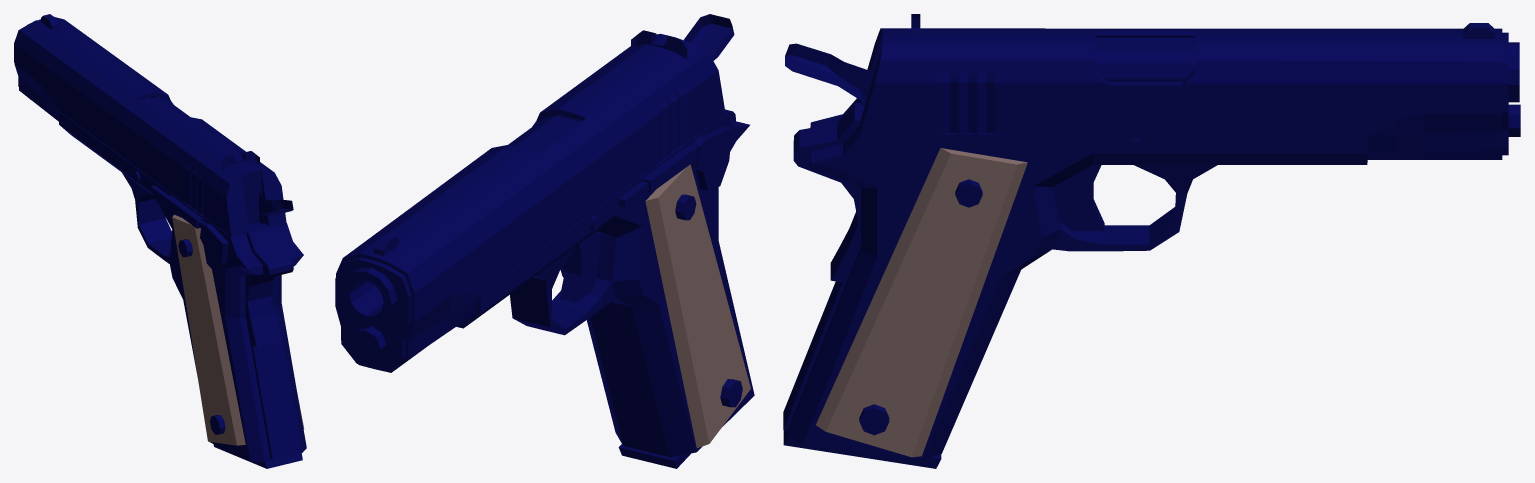
File: m1911_blue.glb
The picture shows the model from 3 angles, left to right: view 1: azimuth 30°, elevation 25°; view 2: azimuth 150°, elevation 25°; view 3: azimuth 270°, elevation 25°; orthographic projection. The views are drawn at different scales.
Parts seen in each view (by area): view 1: Cube.001, Cube, Cube.007, Cube.006, Cube.010, Cube.009, Cube.003, Cube.008, Cylinder.001, Cube.013, Cube.011; view 2: Cube.001, Cube, Cube.007, Cube.005, Cube.002, Cube.004, Cube.010, Cube.009, Cube.008, Cube.003, Cylinder.001, Cylinder (+2 smaller); view 3: Cube.001, Cube, Cube.007, Cube.006, Cube.003, Cube.008, Cube.004, Cylinder.001, Cube.013, Cube.005.
Part boxes in pixels (bbox=[...]): Cube.001: bbox=[14, 17, 286, 237]; Cube: bbox=[59, 111, 306, 461]; Cube.007: bbox=[172, 214, 304, 445]; Cube.006: bbox=[245, 222, 297, 459]; Cube.010: bbox=[200, 223, 228, 272]; Cube.009: bbox=[150, 185, 206, 228]; Cube.003: bbox=[139, 97, 189, 122]; Cube.008: bbox=[258, 192, 293, 224]; Cylinder.001: bbox=[133, 171, 225, 434]; Cube.013: bbox=[213, 444, 302, 468]; Cube.011: bbox=[220, 151, 259, 170]; Cube.001: bbox=[336, 33, 725, 372]; Cube: bbox=[456, 114, 754, 457]; Cube.007: bbox=[645, 164, 750, 448]; Cube.005: bbox=[335, 257, 411, 370]; Cube.002: bbox=[341, 268, 396, 324]; Cube.004: bbox=[559, 232, 601, 302]; Cube.010: bbox=[690, 126, 732, 190]; Cube.009: bbox=[618, 145, 698, 207]; Cube.008: bbox=[684, 14, 734, 60]; Cube.003: bbox=[508, 116, 580, 153]; Cylinder.001: bbox=[590, 194, 742, 407]; Cylinder: bbox=[351, 326, 386, 360]; Cube.001: bbox=[860, 28, 1502, 159]; Cube: bbox=[787, 98, 1367, 460]; Cube.007: bbox=[816, 148, 1027, 457]; Cube.006: bbox=[783, 103, 864, 430]; Cube.003: bbox=[1095, 37, 1194, 81]; Cube.008: bbox=[785, 43, 875, 106]; Cube.004: bbox=[1054, 165, 1104, 231]; Cylinder.001: bbox=[859, 138, 1142, 435]; Cube.013: bbox=[783, 430, 941, 468]; Cube.005: bbox=[1502, 32, 1508, 155].
Size of the model in its own units: 0.0882 by 0.3134 by 0.485.
